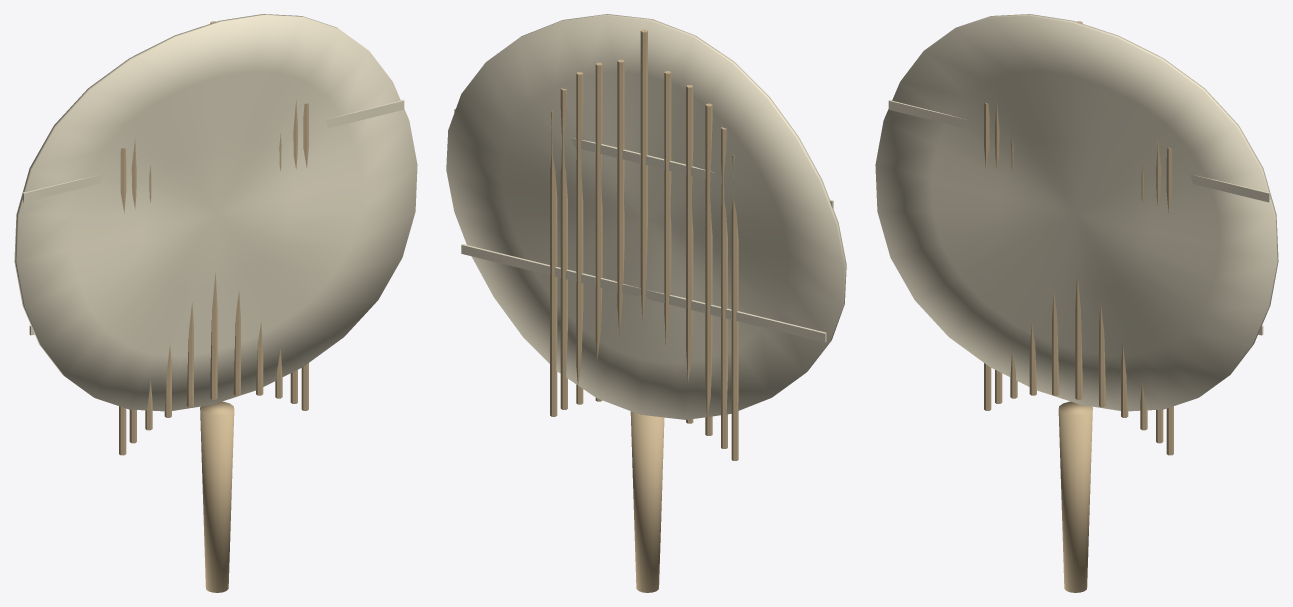
File: quat_nan_la_dua.glb
3 renders of one model, left to right at view 1: azimuth 30°, elevation 25°; view 2: azimuth 150°, elevation 25°; view 3: azimuth 330°, elevation 25°, orthographic.
Visible parts, largest first — view 1: quat_blade, quat_handle, weave_0.29, rib_0, rib_-5, rib_5, rib_1, rib_-1, rib_-4; view 2: quat_blade, quat_handle, weave_0.2, rib_-3, rib_3, rib_4, rib_2, rib_0, rib_-2, rib_-5, rib_5, rib_-4 (+3 smaller); view 3: quat_blade, quat_handle, weave_0.29, rib_0, rib_5, rib_-5, rib_-1, rib_1, rib_4.
Boxes of the visible parts, box(x1,y1,x2,y2) form: quat_blade: box(14, 14, 417, 411); quat_handle: box(200, 401, 234, 592); weave_0.29: box(22, 100, 404, 202); rib_0: box(210, 21, 217, 399); rib_-5: box(119, 147, 126, 455); rib_5: box(301, 102, 308, 410); rib_1: box(233, 291, 240, 395); rib_-1: box(186, 302, 193, 407); rib_-4: box(129, 138, 136, 443); quat_blade: box(446, 14, 846, 419); quat_handle: box(630, 411, 664, 592); weave_0.2: box(461, 244, 826, 342); rib_-3: box(705, 103, 712, 435); rib_3: box(576, 72, 583, 404); rib_4: box(560, 88, 567, 409); rib_2: box(595, 62, 602, 401); rib_0: box(640, 29, 647, 320); rib_-2: box(686, 85, 693, 423); rib_-5: box(731, 155, 738, 460); rib_5: box(550, 111, 557, 416); rib_-4: box(721, 127, 727, 448); quat_blade: box(875, 14, 1278, 411); quat_handle: box(1058, 401, 1092, 592); weave_0.29: box(888, 100, 1270, 202); rib_0: box(1075, 21, 1082, 399); rib_5: box(1166, 147, 1173, 455); rib_-5: box(984, 102, 991, 410); rib_-1: box(1052, 291, 1059, 395); rib_1: box(1099, 302, 1106, 407); rib_4: box(1156, 138, 1163, 443).
Bounding box in the file's own units: 0.28 × 0.3801 × 0.021.
